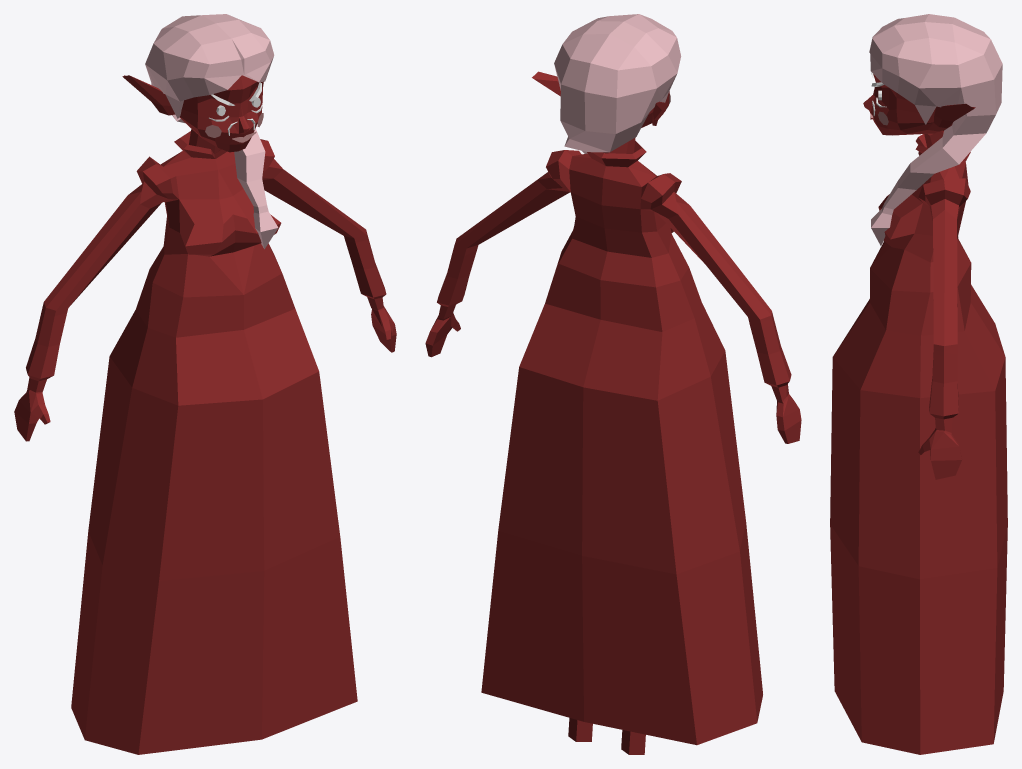
File: old_woman.fbx
3 renders of one model, left to right at view 1: azimuth 30°, elevation 25°; view 2: azimuth 150°, elevation 25°; view 3: azimuth 270°, elevation 25°, orthographic. The views are drawn at different scales.
Parts seen in each view (by area): view 1: body, hair; view 2: body, hair; view 3: body, hair.
Part boxes in pixels (x1=…): body: x1=14, y1=75, x2=396, y2=754; hair: x1=145, y1=14, x2=278, y2=249; body: x1=425, y1=71, x2=801, y2=754; hair: x1=554, y1=14, x2=681, y2=153; body: x1=830, y1=74, x2=1007, y2=754; hair: x1=869, y1=14, x2=1002, y2=245.
Bounding box in the file's own units: 88.89 × 167 × 37.88.
